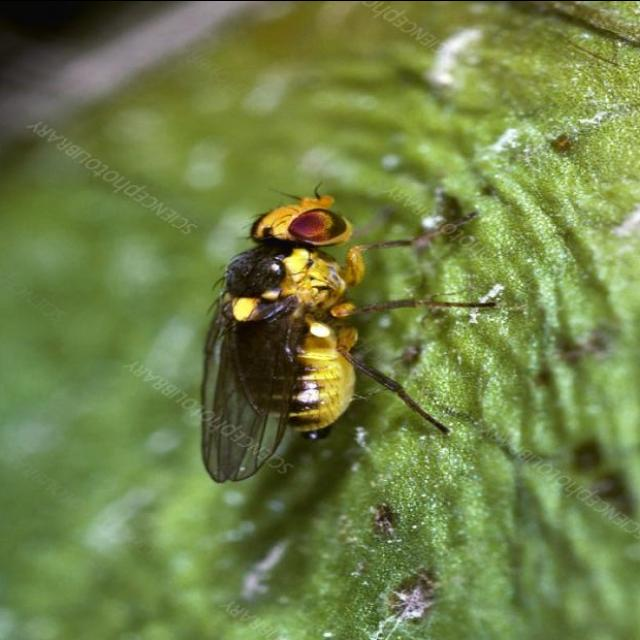Serpentine leafminer: (194, 177, 507, 485)
